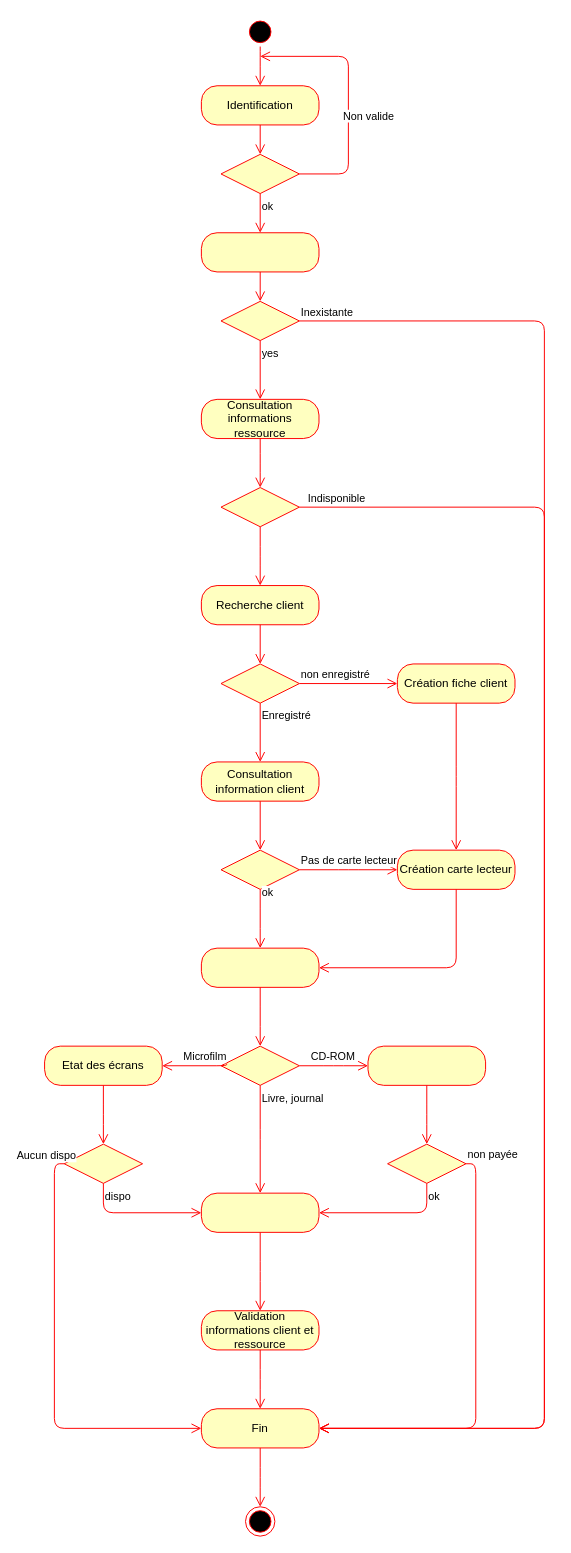
Image size: 571x1553. Some labels were removed from this diagram. Here are the shapes that lost their labels. From the top down, the centre of each, then its label:
At [259,252]: "Chercher ressource".
At [259,967]: "Création fiche d'emprunt".
At [426,1065]: "Paiement caution".
At [259,1212]: "Validation emprunt".
